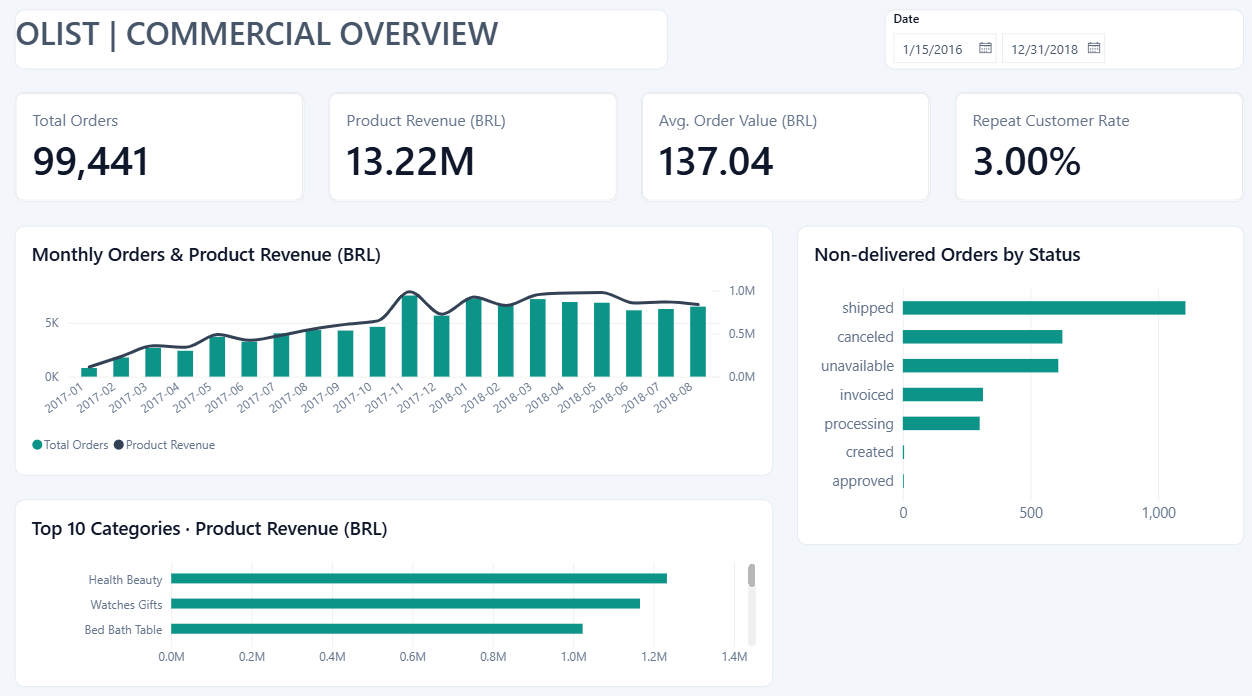

This screenshot's page, from the dashboard's own definition file:
{"tool":"powerbi","page":{"name":"Commercial Overview","canvas":[1280,720],"ordinal":0},"visuals":[{"type":"cardVisual","fields":{"Data":["order_analysis.Total Orders"]},"box":[24,100,290,110],"z":0},{"type":"cardVisual","fields":{"Data":["order_analysis.Product Revenue"]},"box":[338,100,290,110],"z":1000},{"type":"cardVisual","fields":{"Data":["order_analysis.Average Order Value"]},"box":[652,100,290,110],"z":2000},{"type":"cardVisual","fields":{"Data":["order_analysis.Repeat Customer Rate"]},"box":[966,100,290,110],"z":3000},{"type":"lineClusteredColumnComboChart","title":"Monthly Orders & Product Revenue (BRL)","fields":{"Category":["DimDate.YearMonth"],"Y":["order_analysis.Total Orders"],"Y2":["order_analysis.Product Revenue"]},"box":[24,234,760,250],"z":4000},{"type":"clusteredBarChart","title":"Top 10 Categories · Product Revenue (BRL)","fields":{"Category":["products.category_name"],"Y":["DimDate.Category Revenue"]},"box":[24,508,760,188],"z":5000},{"type":"clusteredBarChart","title":"Non-delivered Orders by Status","fields":{"Category":["order_analysis.order_status"],"Y":["order_analysis.Total Orders"]},"box":[808,234,448,320],"z":6000},{"type":"slicer","fields":{"Values":["DimDate.Date"]},"box":[896,18,360,60],"z":7000},{"type":"textbox","box":[24,18,654,60],"z":8000}]}

Visuals, with their boxes in screenshot pixels (x1, y1, x2, y2), scaled from the page's 1280x720 canvas onto the 1252x696 screenshot:
cardVisual - order_analysis.Total Orders: crop(23, 97, 307, 203)
cardVisual - order_analysis.Product Revenue: crop(331, 97, 614, 203)
cardVisual - order_analysis.Average Order Value: crop(638, 97, 921, 203)
cardVisual - order_analysis.Repeat Customer Rate: crop(945, 97, 1229, 203)
"Monthly Orders & Product Revenue (BRL)" lineClusteredColumnComboChart: crop(23, 226, 767, 468)
"Top 10 Categories · Product Revenue (BRL)" clusteredBarChart: crop(23, 491, 767, 673)
"Non-delivered Orders by Status" clusteredBarChart: crop(790, 226, 1229, 536)
slicer - DimDate.Date: crop(876, 17, 1229, 75)
textbox: crop(23, 17, 663, 75)
